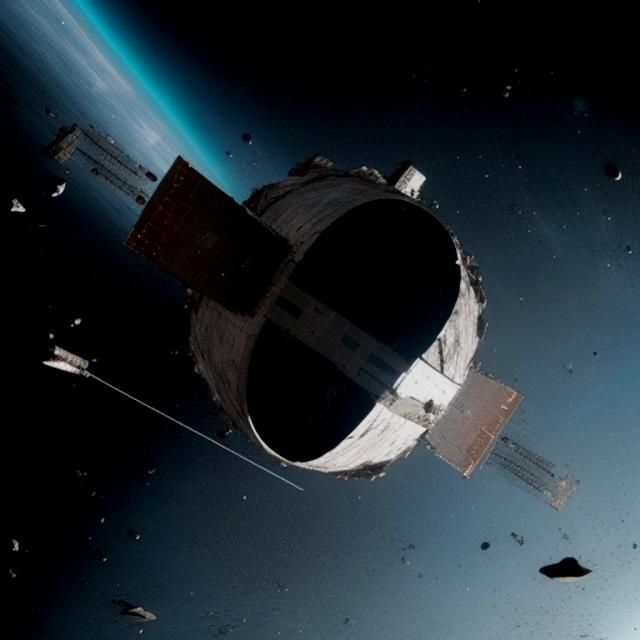large_debris: (206, 587, 410, 640), (0, 534, 145, 577), (0, 176, 72, 233), (527, 548, 603, 591), (111, 596, 175, 640), (595, 203, 631, 281), (205, 134, 272, 163), (599, 160, 626, 194)
satellite: (0, 131, 590, 543)
